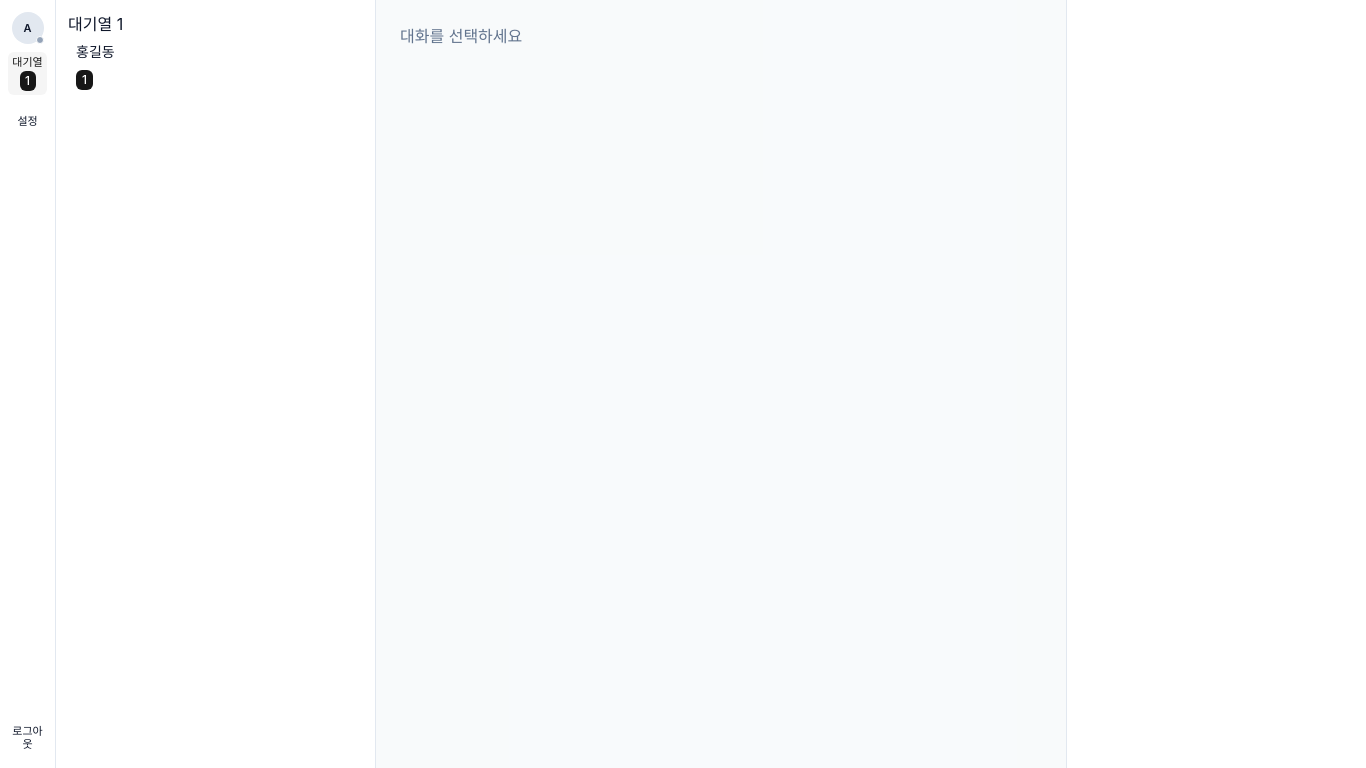
Scenario: administrator settings live behind the rail
This screenshot has width=1366, height=768.
Expected: the navigation bar "대기열" is shown, [56,0,376,767]
Expected: the element "인박스" is not shown
Click the button "설정" at (28, 121), box [8,103,47,139]
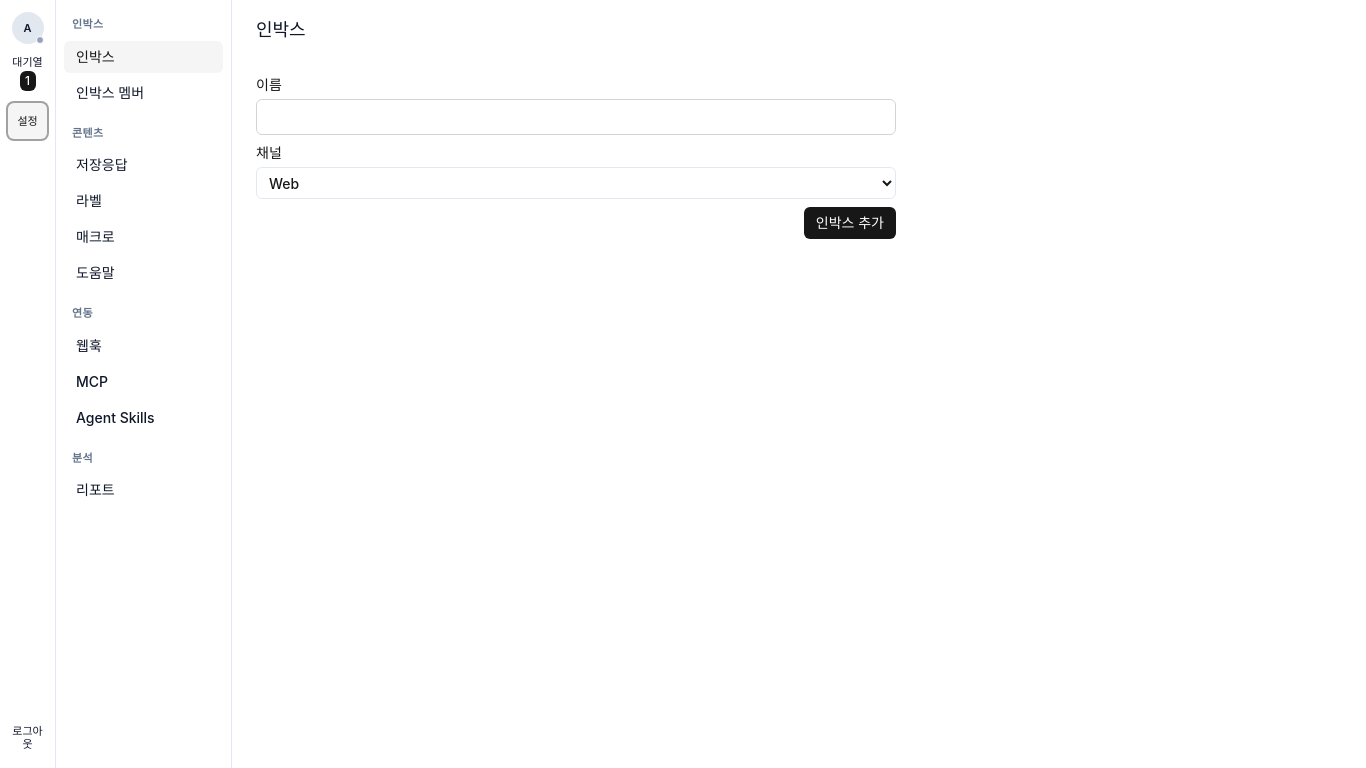
Result: the element "인박스" is shown at [256,16,896,239]
Click the button "인박스 멤버" at (144, 92), box [64,76,223,108]
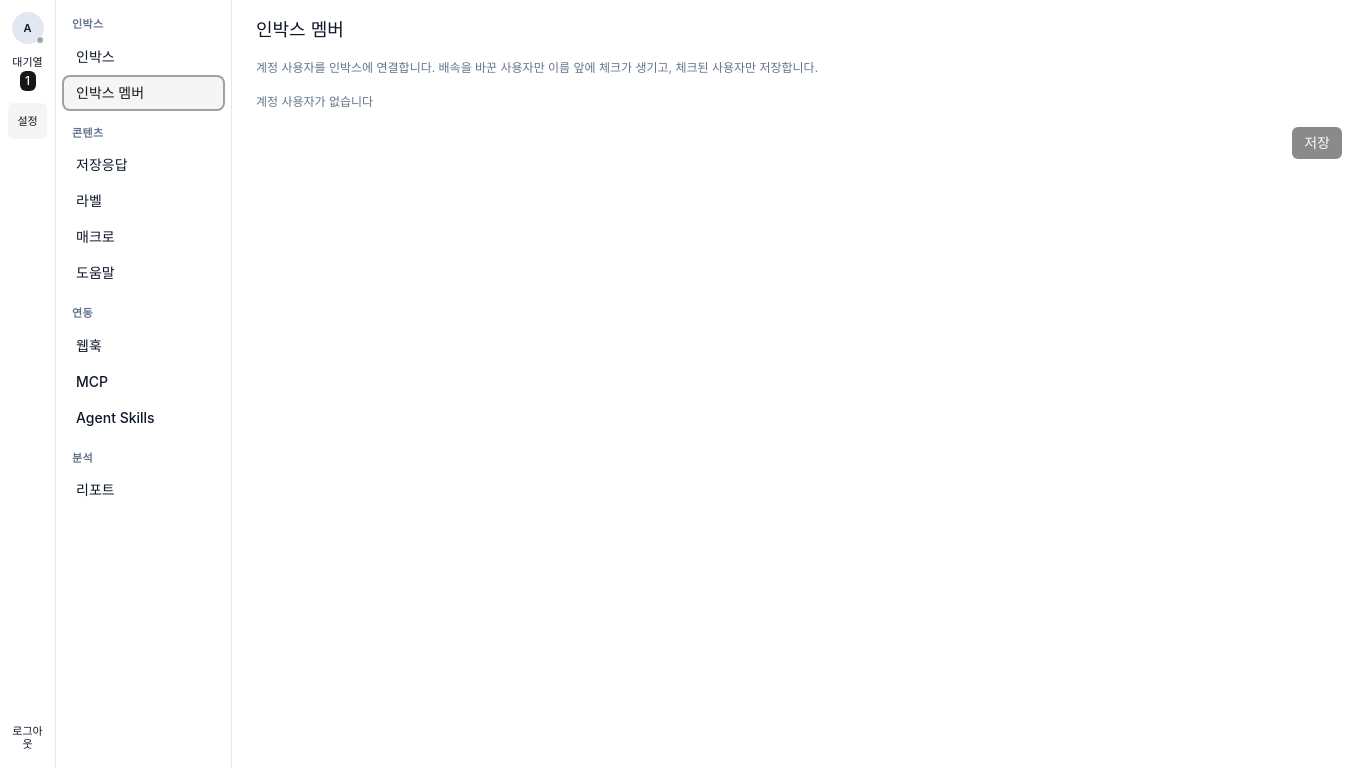
Result: the element "인박스 멤버" is shown at [256,16,1342,159]
